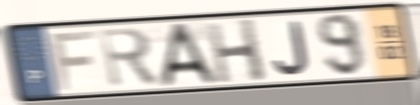9: (315, 12, 367, 79)
A: (159, 21, 220, 90)
F: (48, 28, 100, 93)
H: (204, 16, 269, 85)
J: (271, 19, 312, 77)
R: (96, 25, 163, 91)
